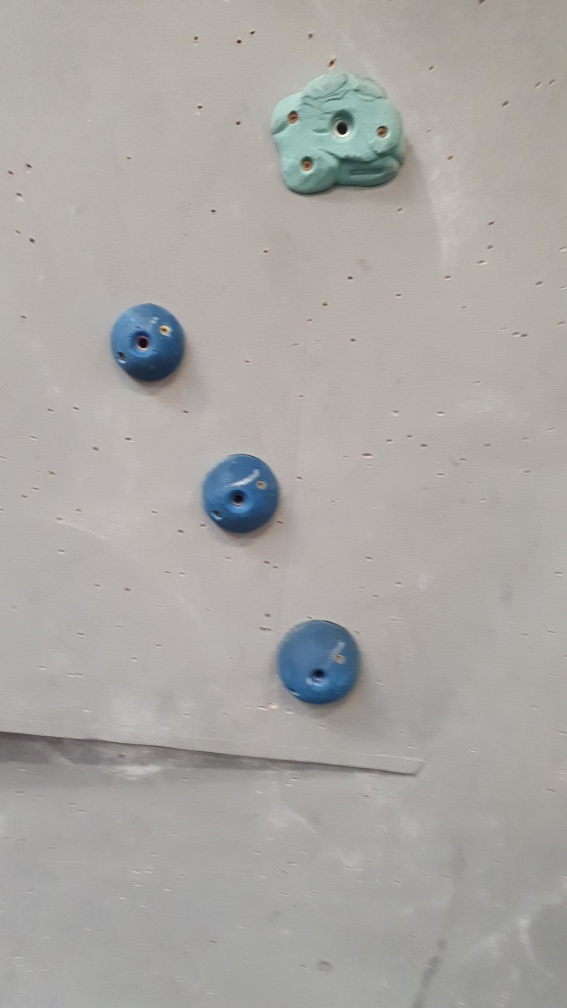Sloper: (277, 617, 363, 704), (203, 453, 280, 535), (112, 304, 187, 381)
